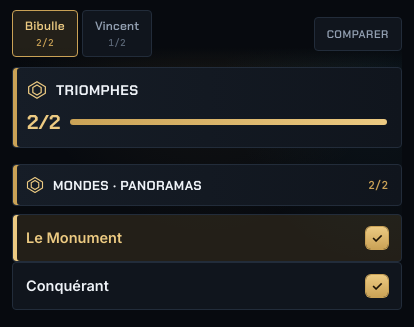
Test: MobileView › toggles compare mode
The width and height of the screenshot is (414, 327).
Click the button "Comparer": (358, 34) x1=314 y1=16 x2=402 y2=50
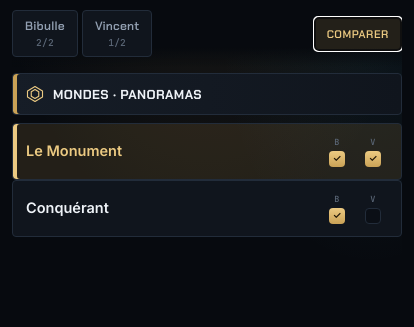
Check: the 1st text "B" is shown, box x1=334 y1=136 x2=340 y2=148
Check: the 1st text "V" is shown, box x1=370 y1=136 x2=376 y2=148
